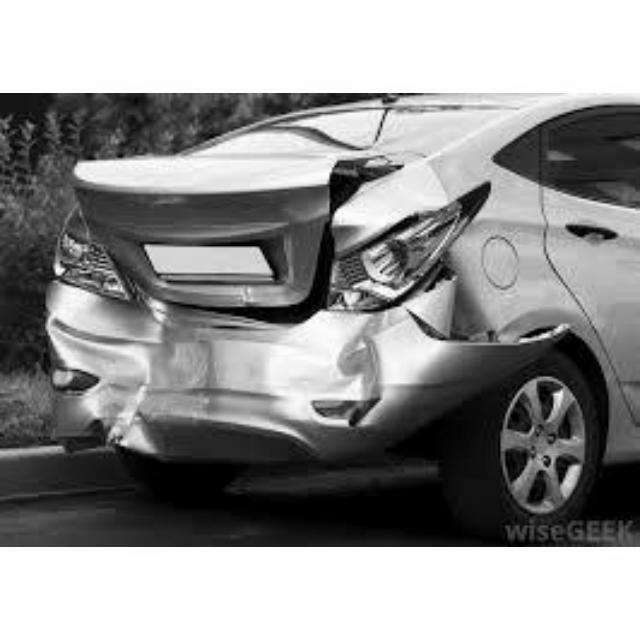boot-dent: (85, 137, 380, 288)
rear-bumper-dent: (85, 327, 364, 447)
